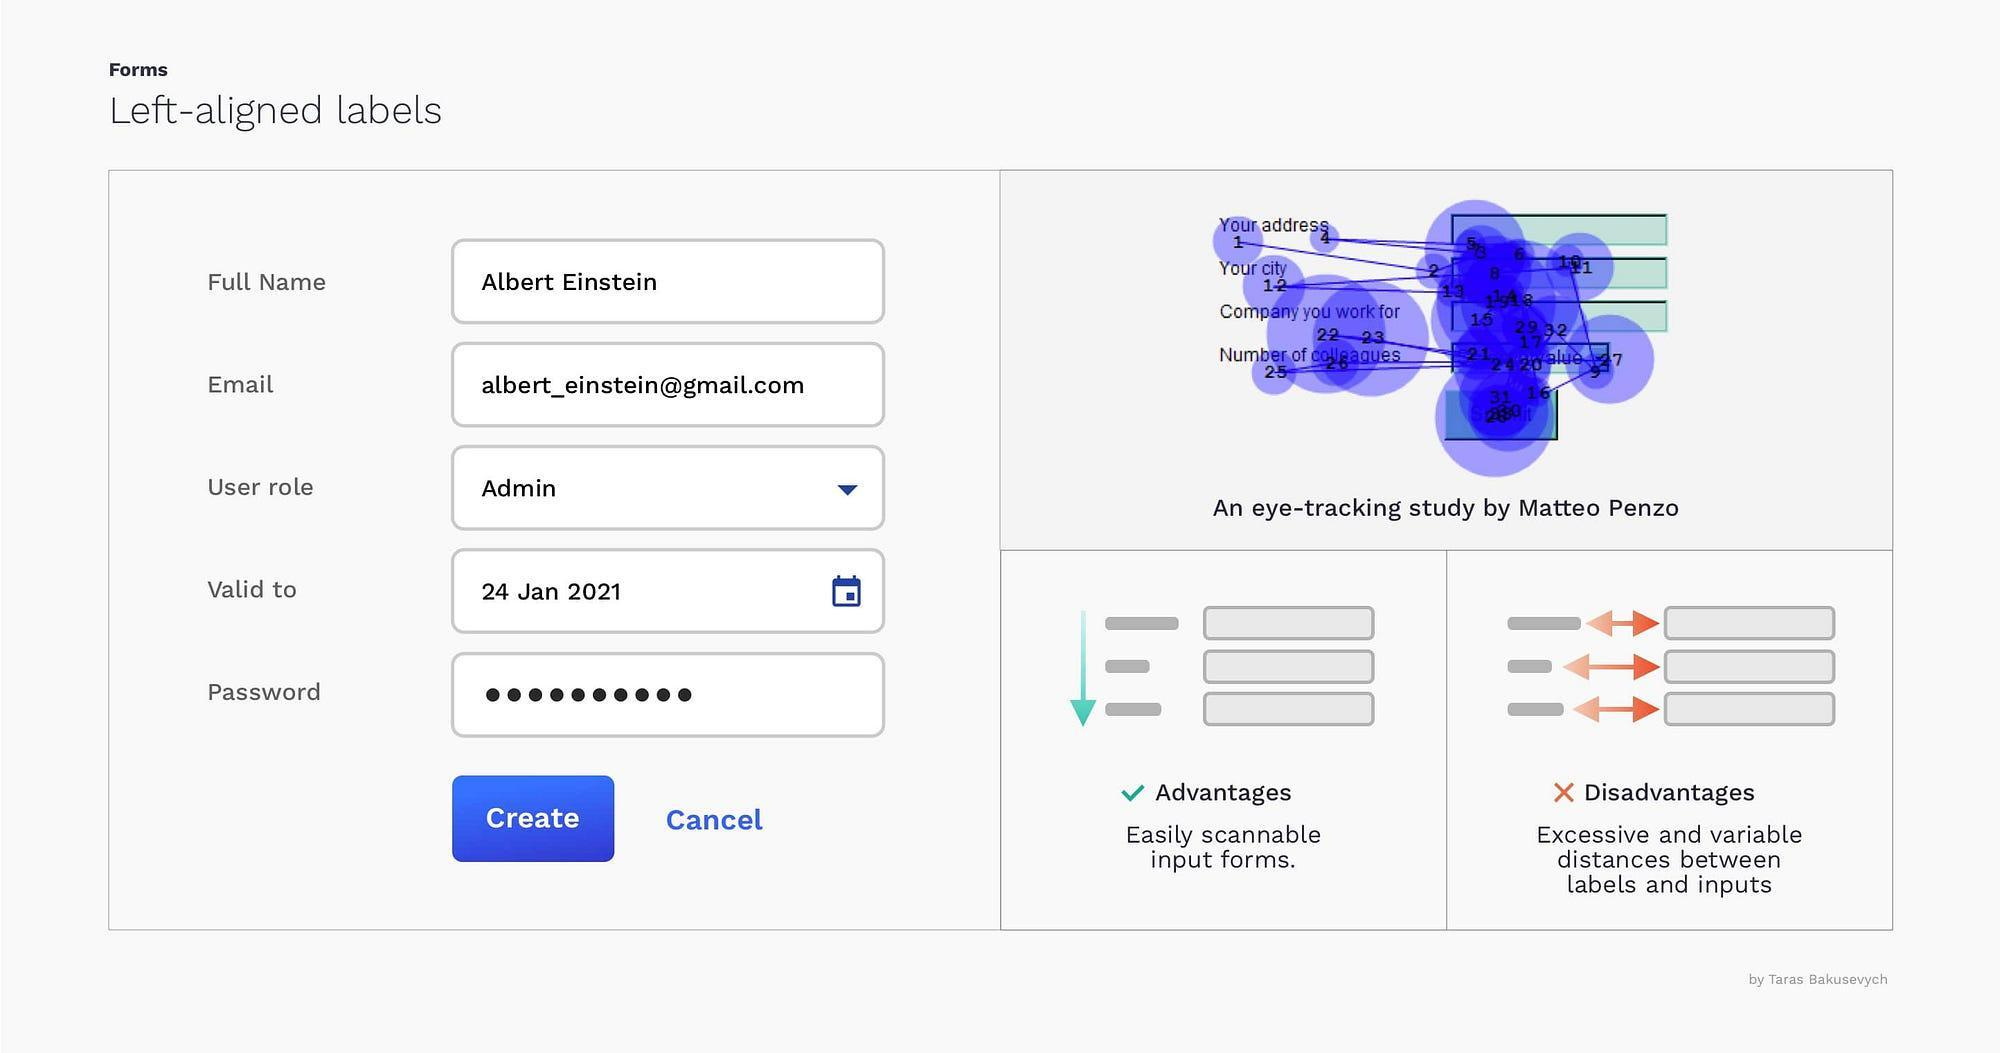dropdown: (451, 444, 889, 534)
icon: (829, 570, 862, 612)
input: (448, 235, 888, 327), (450, 651, 889, 742), (450, 546, 889, 635), (450, 341, 888, 430), (451, 773, 618, 864)
label: (108, 95, 450, 128), (205, 470, 321, 497), (206, 270, 331, 295), (212, 679, 327, 704), (206, 575, 300, 602), (98, 53, 181, 79), (206, 372, 276, 398)
